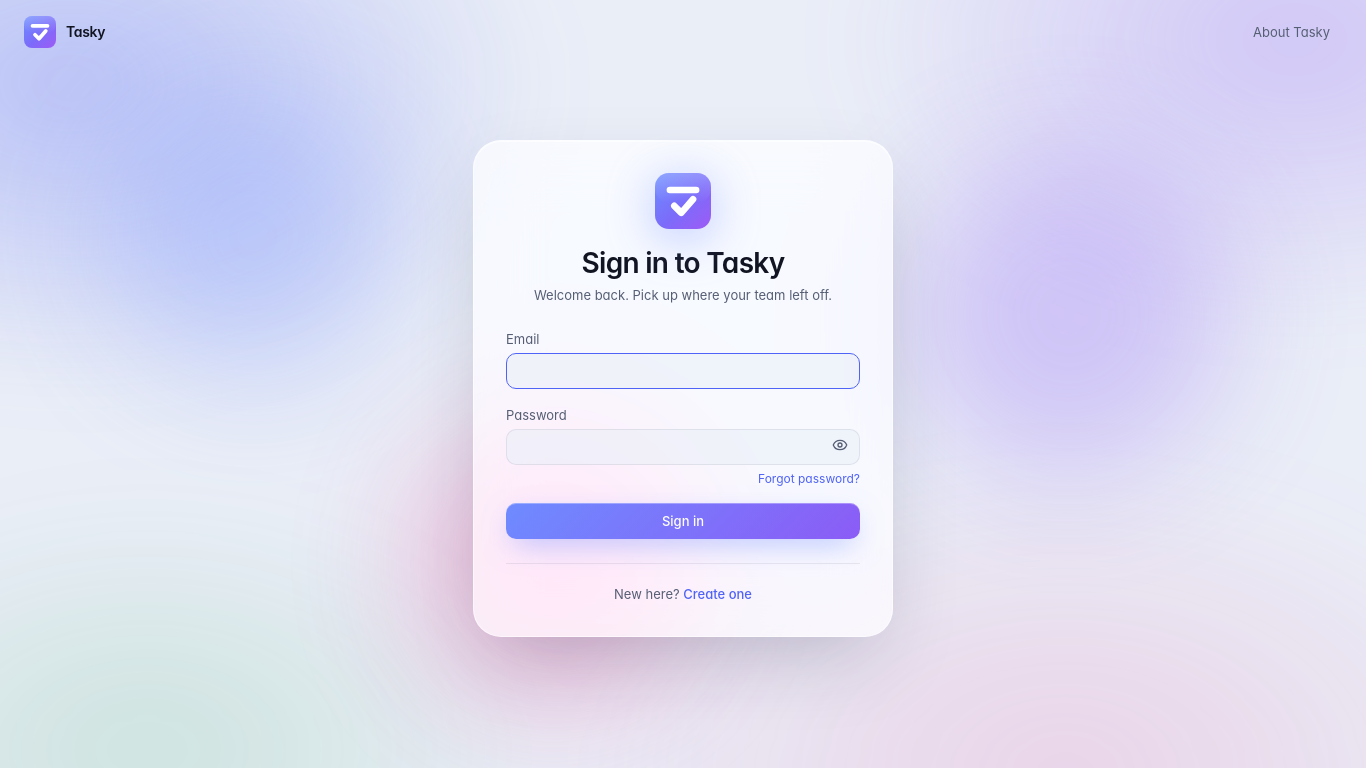
authentication flow › shows the server message and request id on bad credentials
The image size is (1366, 768).
Type "admin@demo.io" into the field labelled "Email" at (683, 370), box [506,352,860,388]
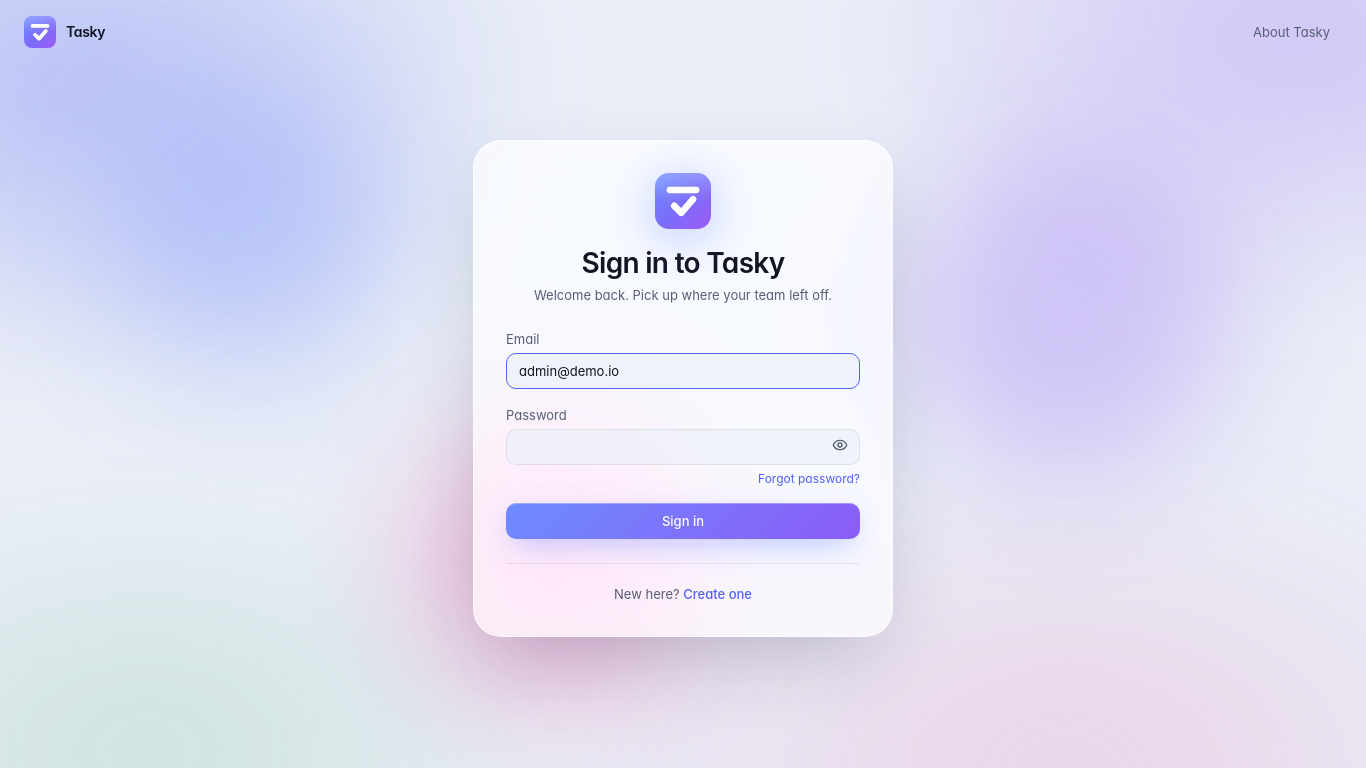
Type "wrong" into the password field labelled "Password" at (683, 446), box [506,428,860,464]
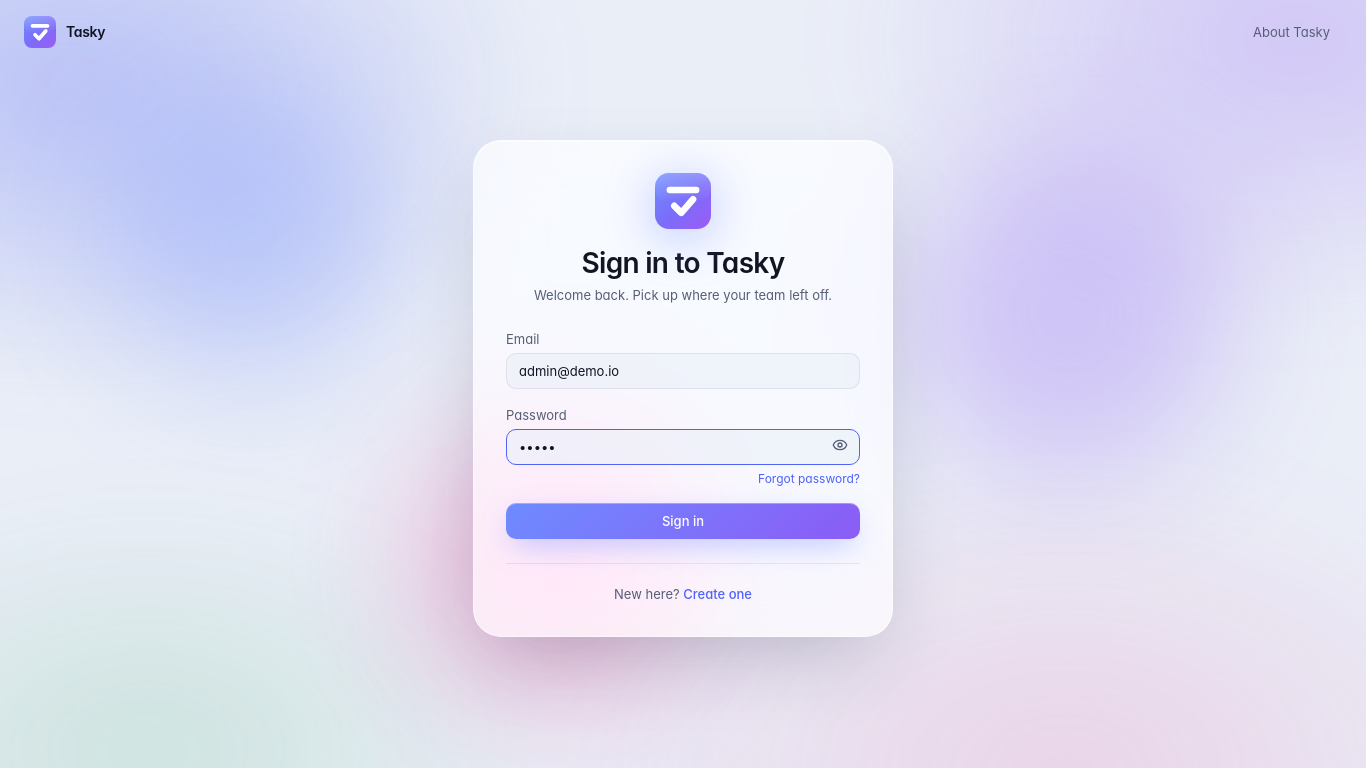
Click the button "Sign in" at (683, 520), box [506,502,860,538]
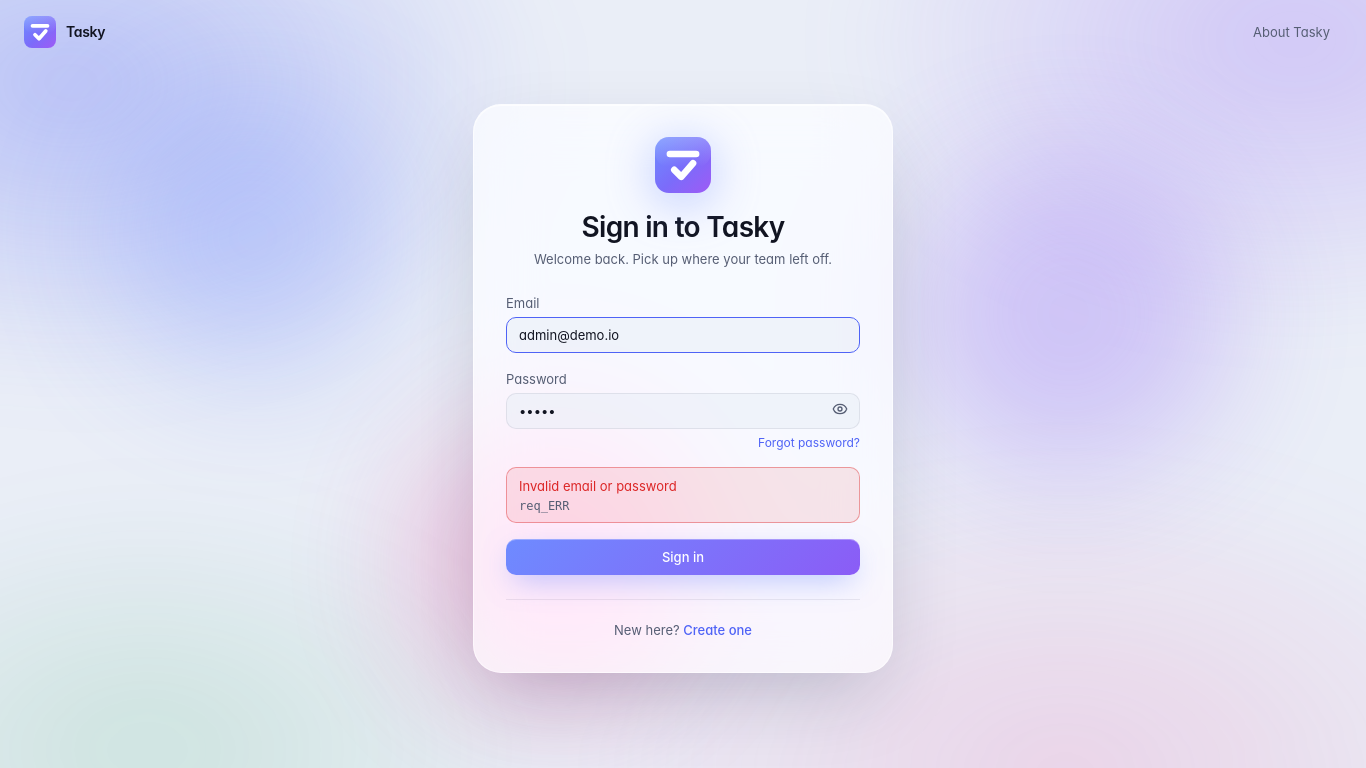
Now the message shows "Invalid email or password", box [519,478,677,494]
Now the message shows "req_ERR", box [519,498,570,512]
